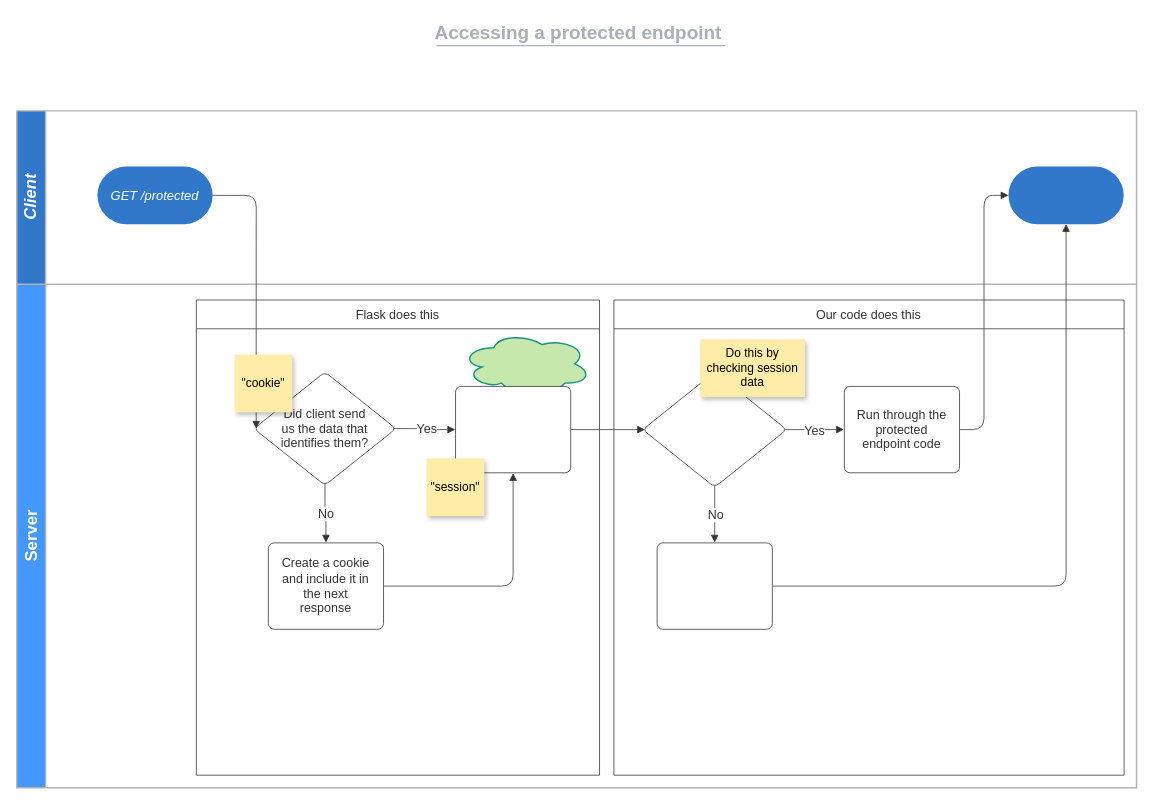
Image size: 1154x805. Some labels were removed from this diagram. Here are the shapes that lost their labels. From the top down, the centre of each, then its label:
At point 578,52: "Jose Salvatierra | 11 Feb 2022".
At point 1065,194: "Receive a response".
At point 525,363: "Stored in the cookie or a database".
At point 513,429: "Retrieve data related to this user".
At point 714,429: "Does the user have access to this endpoint?".
At point 714,585: "Redirect user to the log in page".
